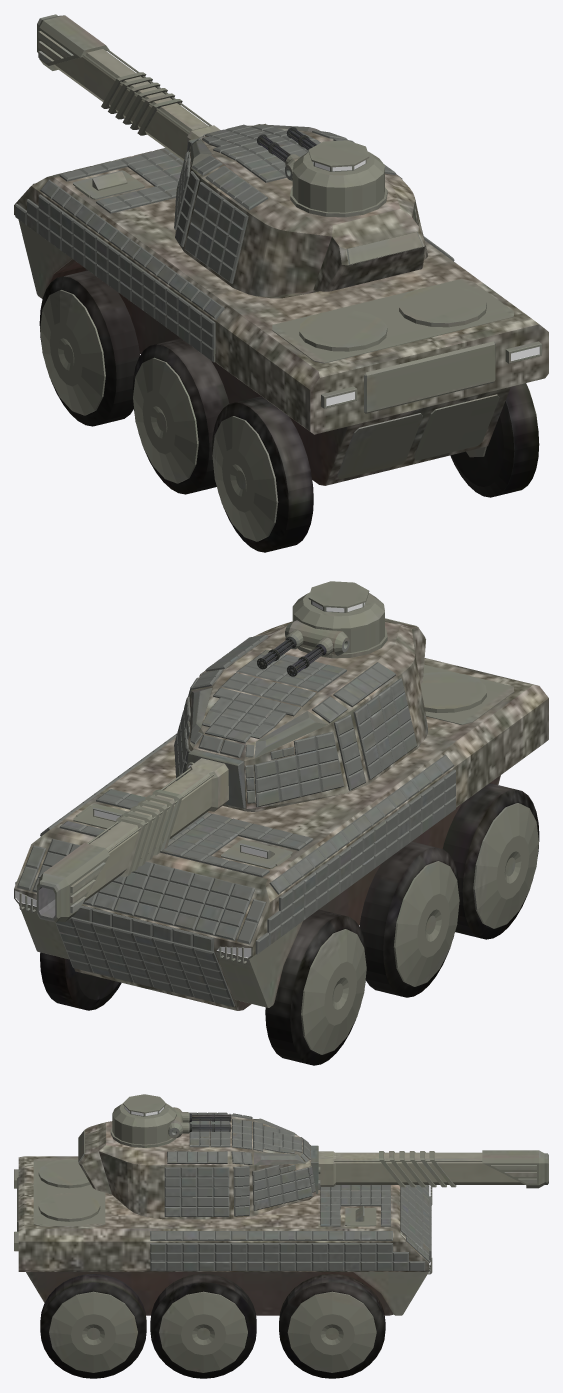
The model's file is avs_4.glb.
The picture shows the model from 3 angles, top to bottom: view 1: azimuth 30°, elevation 25°; view 2: azimuth 150°, elevation 25°; view 3: azimuth 270°, elevation 25°; orthographic projection. The views are drawn at different scales.
Visible parts, largest first — view 1: Sphere, Sphere.001, wheel, wheel.002, wheel.001, Cannon, Sphere.002, wheel.005; view 2: Sphere, Sphere.001, Cannon, wheel.001, wheel.002, wheel, Sphere.002, wheel.003, Sphere.005; view 3: Sphere, Sphere.001, wheel.005, wheel.003, wheel.004, Cannon, Sphere.002, Sphere.005.
Part boxes in pixels (x1,y1,x2,y2): Sphere: [14, 123, 548, 485]; Sphere.001: [174, 124, 427, 298]; wheel: [212, 396, 313, 552]; wheel.002: [39, 270, 140, 426]; wheel.001: [132, 338, 229, 494]; Cannon: [37, 14, 220, 160]; Sphere.002: [290, 140, 387, 217]; wheel.005: [450, 383, 539, 497]; Sphere: [14, 658, 548, 1010]; Sphere.001: [174, 618, 427, 811]; Cannon: [37, 749, 245, 922]; wheel.001: [359, 841, 459, 997]; wheel.002: [265, 909, 367, 1065]; wheel: [442, 783, 539, 939]; Sphere.002: [292, 581, 387, 658]; wheel.003: [40, 952, 121, 1010]; Sphere.005: [285, 620, 349, 656]; Sphere: [14, 1156, 432, 1315]; Sphere.001: [78, 1112, 316, 1219]; wheel.005: [40, 1274, 146, 1378]; wheel.003: [279, 1274, 385, 1378]; wheel.004: [150, 1274, 256, 1378]; Cannon: [311, 1145, 548, 1193]; Sphere.002: [110, 1094, 176, 1147]; Sphere.005: [168, 1107, 189, 1138].
Bounding box in the file's own units: 0.4281 × 0.5014 × 1.04.
3 materials, 1 textured.
